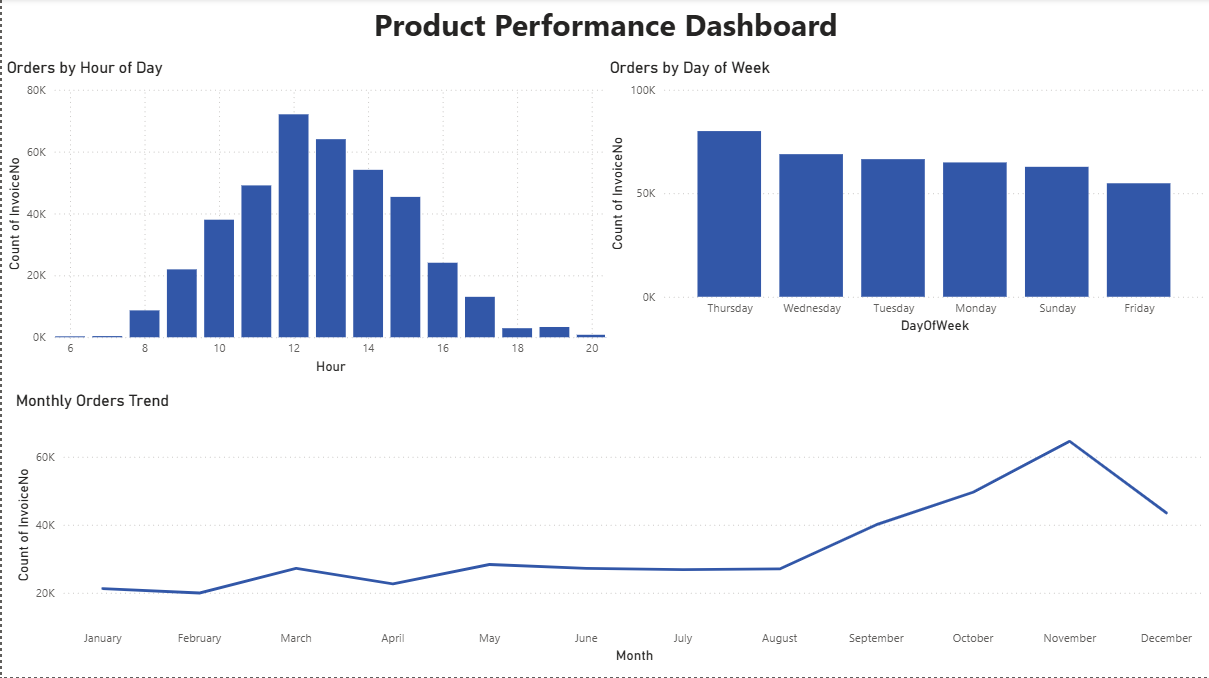

The page's visual inventory and layout, read from the dashboard file:
{"tool":"powerbi","page":{"name":"Page 3","canvas":[1280,720],"ordinal":2},"visuals":[{"type":"clusteredColumnChart","title":"Orders by Hour of Day","fields":{"Category":["cleaned_retail.Hour"],"Y":["CountNonNull(cleaned_retail.InvoiceNo)"]},"box":[0,63.6,645.8,338.8],"z":0},{"type":"clusteredColumnChart","title":"Orders by Day of Week","fields":{"Category":["cleaned_retail.DayOfWeek"],"Y":["CountNonNull(cleaned_retail.InvoiceNo)"]},"box":[639.4,63.6,641,295.9],"z":1000},{"type":"lineChart","title":"Monthly Orders Trend","fields":{"Category":["cleaned_retail.YearMonth.Variation.Date Hierarchy.Month"],"Y":["CountNonNull(cleaned_retail.InvoiceNo)"]},"box":[9.5,416.7,1270.9,292.7],"z":2000},{"type":"textbox","box":[0,0,1280.4,63.6],"z":2001}]}

Visuals, with their boxes in screenshot pixels (x1, y1, x2, y2), scaled from the page's 1280x720 canvas onto the 1209x678 screenshot:
"Orders by Hour of Day" clusteredColumnChart: <bbox>0, 60, 610, 379</bbox>
"Orders by Day of Week" clusteredColumnChart: <bbox>604, 60, 1208, 339</bbox>
"Monthly Orders Trend" lineChart: <bbox>9, 392, 1208, 668</bbox>
textbox: <bbox>0, 0, 1208, 60</bbox>
